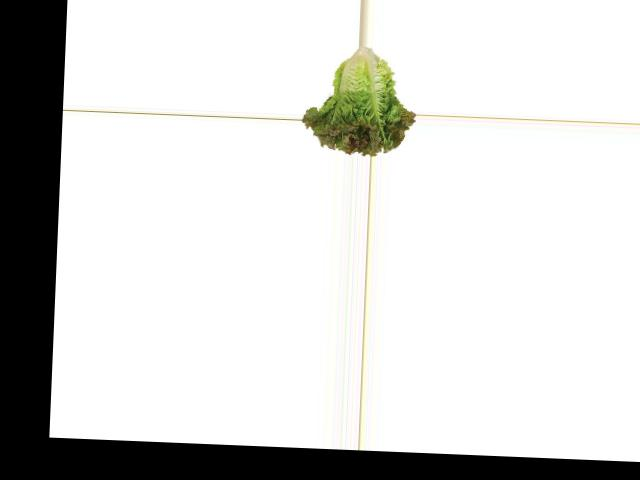lettuce: (300, 44, 417, 156)
